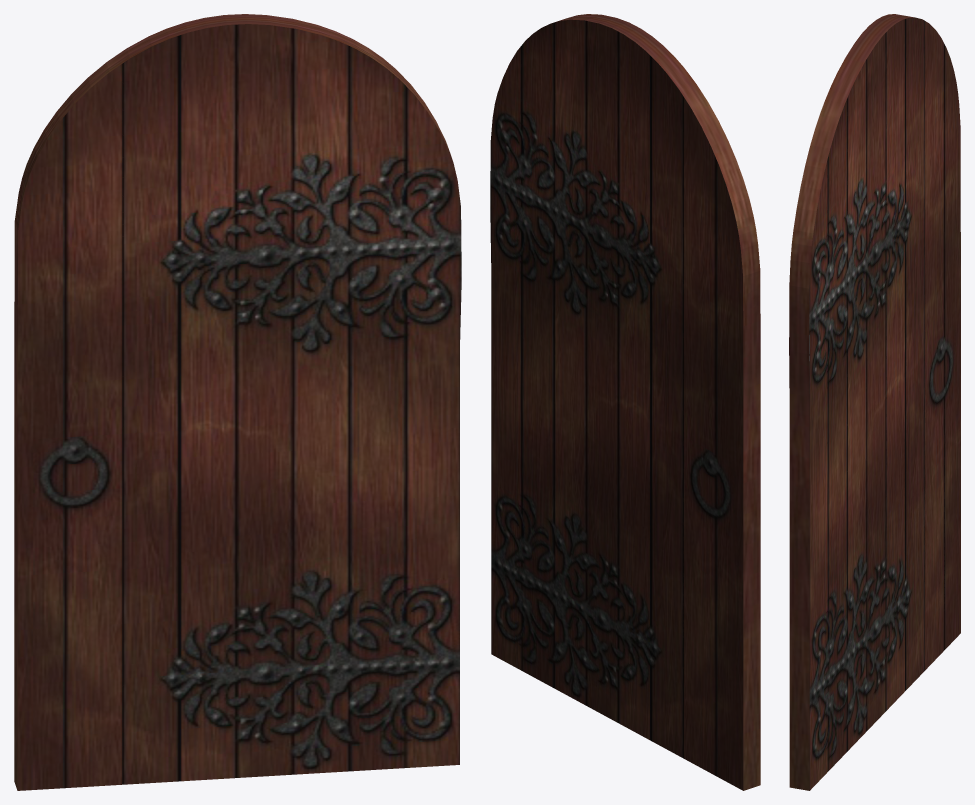
Rendered from door 7.obj.
The picture shows the model from 3 angles, left to right: view 1: azimuth 30°, elevation 25°; view 2: azimuth 150°, elevation 25°; view 3: azimuth 270°, elevation 25°; orthographic projection. The views are drawn at different scales.
Parts seen in each view (by area): view 1: door_10:Mesh; view 2: door_10:Mesh; view 3: door_10:Mesh.
Boxes of the visible parts, box(x1,y1,x2,y2) form: door_10:Mesh: box(14, 14, 461, 790); door_10:Mesh: box(490, 14, 760, 790); door_10:Mesh: box(789, 14, 960, 790).
Size of the model in its own units: 61.21 by 120 by 27.47.
1 material, 1 textured.
